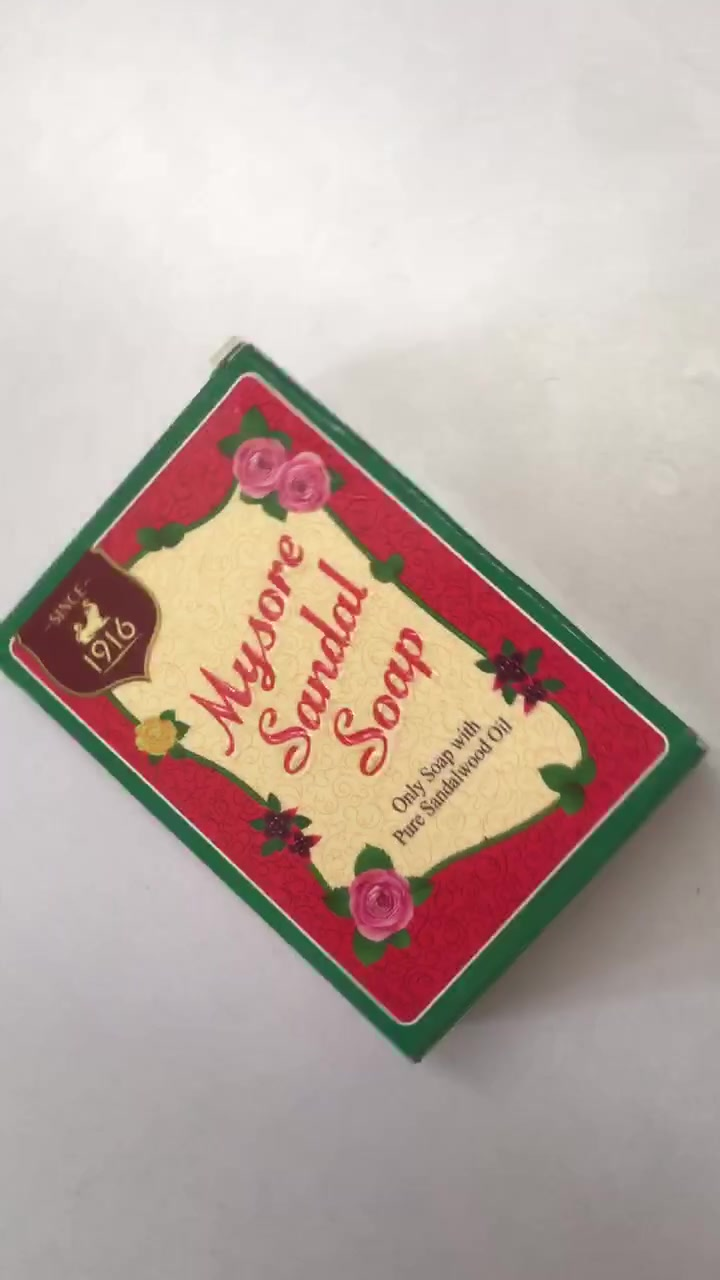mysore sandal soap: (1, 348, 705, 1062)
